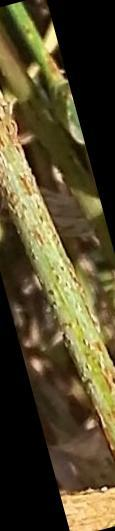Wheat: (6, 133, 115, 401)
